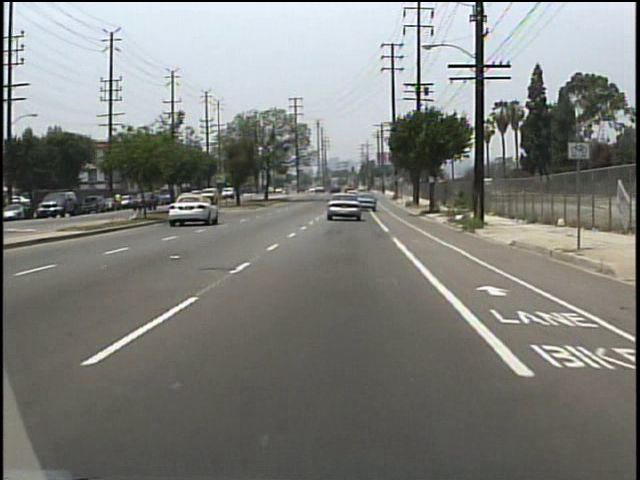person: (113, 191, 123, 210)
